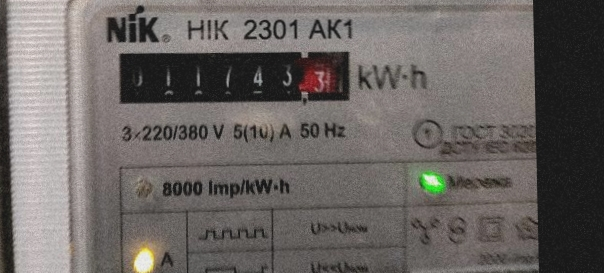0: (130, 60, 144, 88)
1: (190, 59, 203, 87), (162, 60, 172, 87)
3: (280, 60, 294, 87), (311, 68, 325, 93)
4: (250, 60, 264, 88)
7: (219, 58, 235, 86)
screen: (107, 36, 362, 116)
